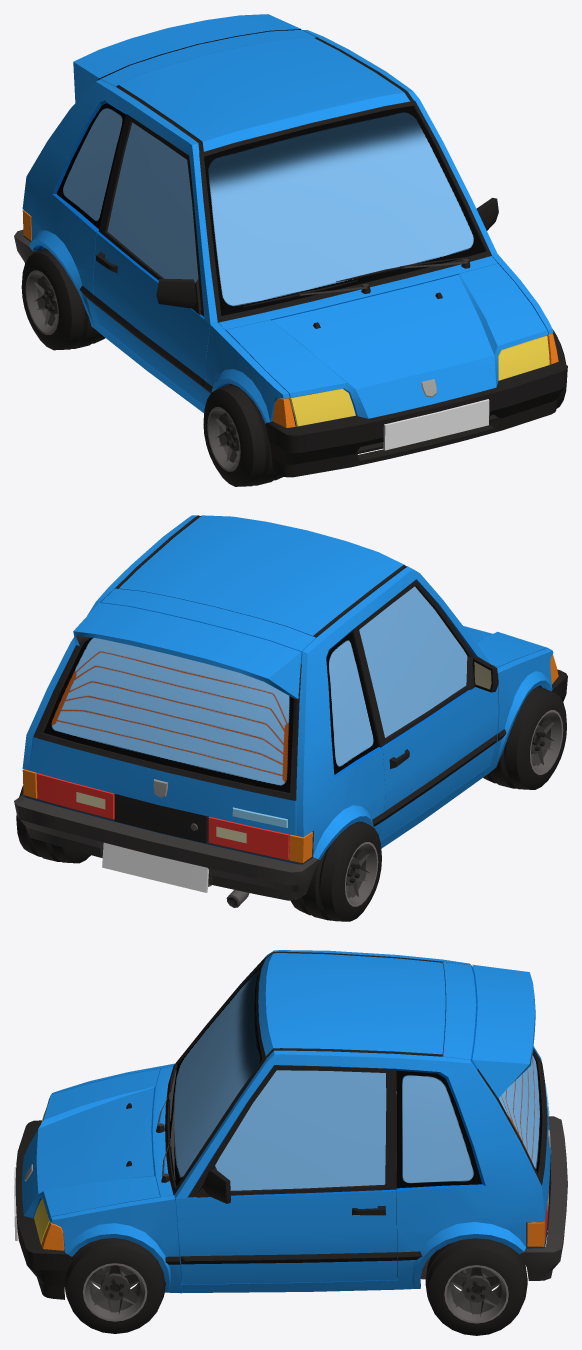
File: Carro2.obj
3 views of the same model, one above another, from view 1: azimuth 30°, elevation 25°; view 2: azimuth 150°, elevation 25°; view 3: azimuth 270°, elevation 25° (orthographic). The views are drawn at different scales.
Parts seen in each view (by area): view 1: obj11, obj9, obj22, obj25, obj47, obj27, obj30, obj4, obj36, obj8, obj46, obj50 (+5 smaller); view 2: obj9, obj30, obj32, obj25, obj27, obj35, obj11, obj8, obj4, obj36, obj39, obj34 (+7 smaller); view 3: obj9, obj41, obj43, obj11, obj22, obj30, obj44, obj6, obj2, obj35, obj47, obj5 (+6 smaller).
Part boxes in pixels (x1,y1,x2,y2): obj11: (56,103,485,315); obj9: (22,30,497,413); obj22: (226,263,548,418); obj25: (92,114,210,406); obj47: (265,358,567,477); obj27: (107,122,198,283); obj30: (73,14,315,102); obj4: (203,383,295,486); obj36: (204,322,289,423); obj8: (21,248,105,350); obj46: (356,399,497,454); obj50: (290,388,355,426); obj9: (22,515,497,860); obj30: (29,588,315,843); obj32: (43,637,293,792); obj25: (352,580,498,840); obj27: (359,586,467,737); obj35: (14,794,318,900); obj11: (326,632,378,774); obj8: (290,821,381,921); obj4: (483,686,566,789); obj36: (487,648,553,774); obj39: (208,816,312,862); obj34: (102,842,208,892); obj9: (152,950,544,1292); obj41: (176,1065,397,1284); obj43: (215,1070,386,1190); obj11: (169,967,481,1188); obj22: (22,1068,159,1219); obj30: (443,962,550,1217); obj44: (49,1195,182,1293); obj6: (425,1238,527,1335); obj2: (64,1238,165,1333); obj35: (519,1116,567,1280); obj47: (15,1120,71,1299); obj5: (444,1265,508,1323).
Size of the model in its own units: 1.14 by 0.8887 by 1.65.
Materials: 4 (4 with a texture image).
